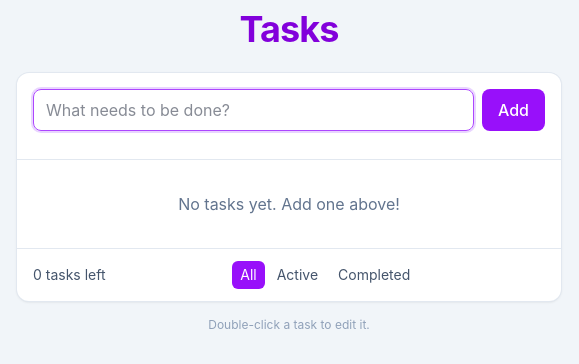
Scenario: US-2 Edit a task › Escape cancels and keeps the old title
Type "Keep me" into the field named "New task".
click(254, 110); type("Keep me")  # box [33,89,474,131]
Then press Enter
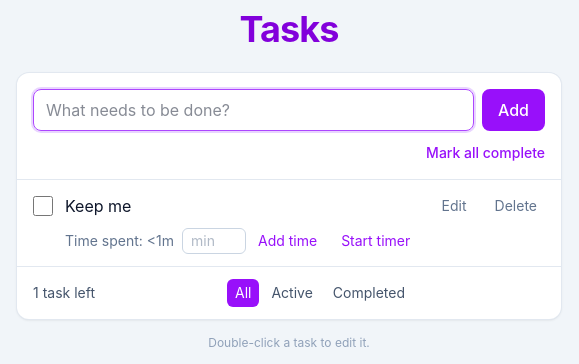
Double-click the text "Keep me".
double_click(98, 206)  # box [65,196,131,216]
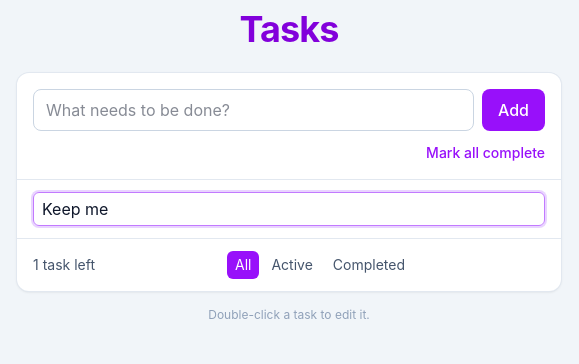
Replace the text in the field named "Edit task \"Keep me\"" with "Changed" at (289, 209), box [33,192,545,226]
Then press Escape
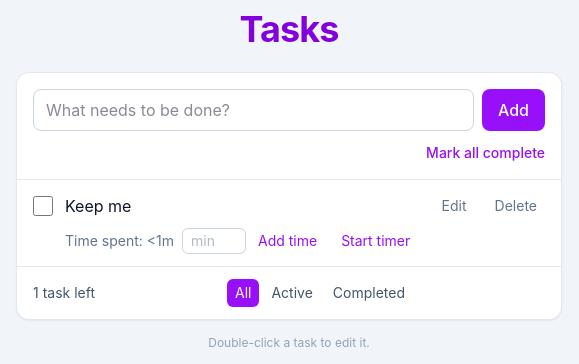
Expected: the text "Keep me" is shown, [65,196,131,216]
